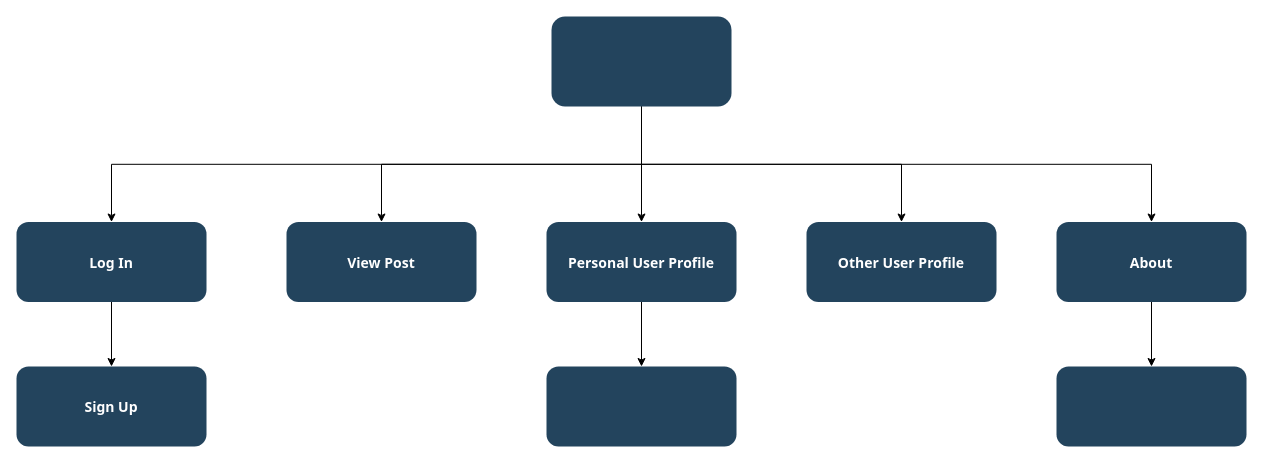
Image size: 1263x463. Some labels were removed from this diagram. Each missing label, with the centre of its shape:
"Contact Us" belongs at point 1151,406.
"Edit User Profile" belongs at point 641,406.
"Index (top/recent)" belongs at point 641,61.
